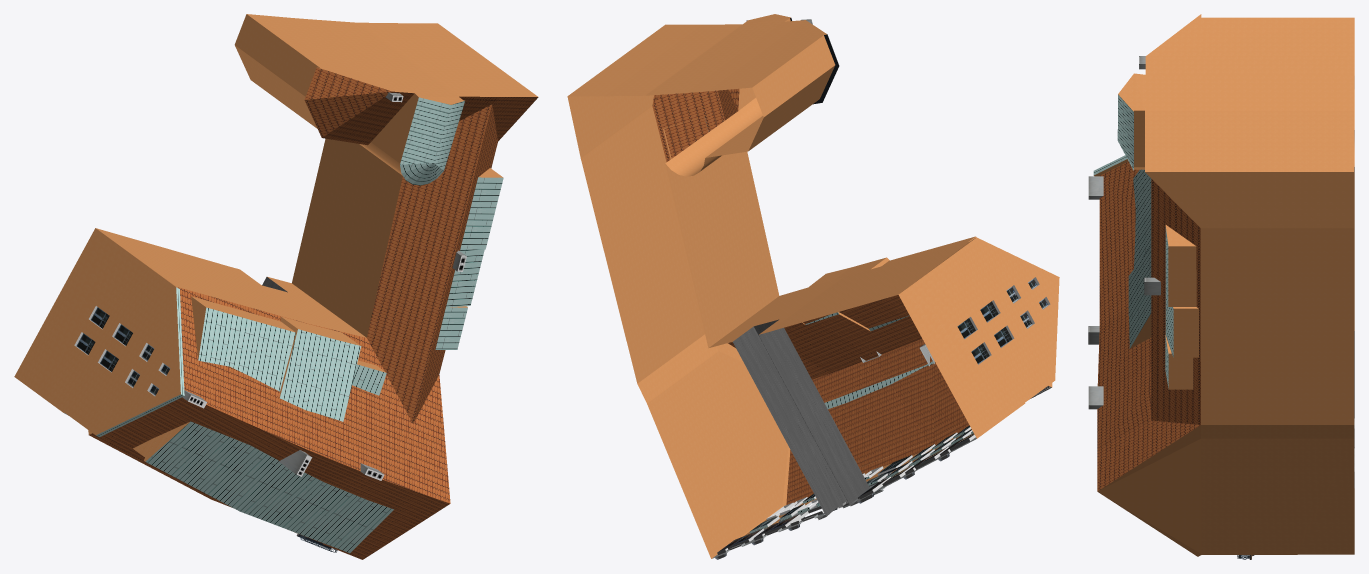
File: Vana-Posti_7.obj
3 renders of one model, left to right at view 1: azimuth 30°, elevation 25°; view 2: azimuth 150°, elevation 25°; view 3: azimuth 270°, elevation 25°, orthographic. The views are drawn at different scales.
Parts seen in each view (by area): view 1: Vana_Posti_7; view 2: Vana_Posti_7; view 3: Vana_Posti_7.
Part boxes in pixels (bbox=[...]): Vana_Posti_7: bbox=[14, 14, 538, 559]; Vana_Posti_7: bbox=[567, 14, 1059, 559]; Vana_Posti_7: bbox=[1088, 14, 1354, 559].
Size of the model in its own units: 39.15 by 44.8 by 20.49.
